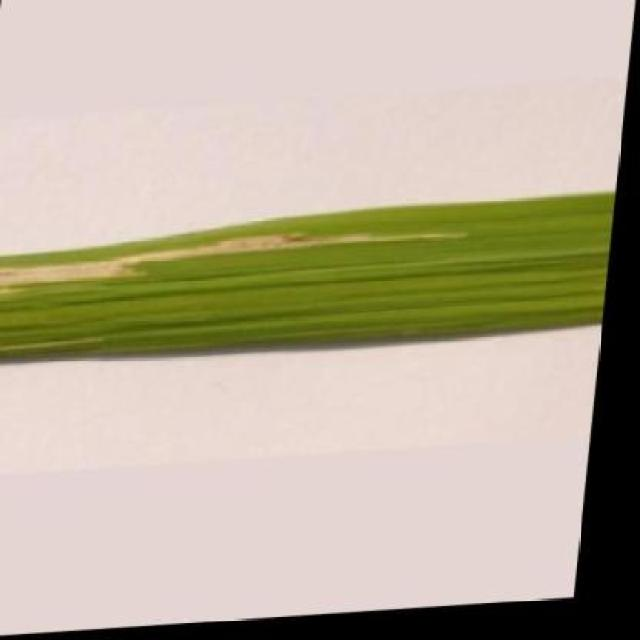Brown_Spot: (0, 195, 622, 380)
